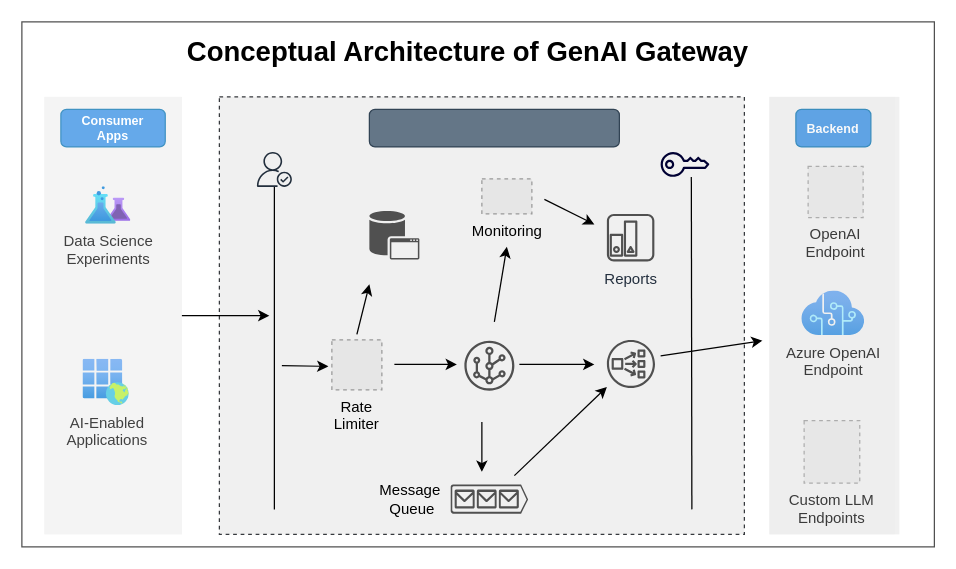
The diagram is 956 pixels wide and 569 high, and some of its shapes have lost their labels. Grey dashed boxes stand in for pictures. Here are the shapes that lost their labels. From the top down, the centre of each, then its label:
At (x=493, y=127): "Gen AI Gateway Solution".
At (x=273, y=168): "Authenticates Consumer".
At (x=684, y=163): "Backend Auth".
At (x=394, y=234): "Store".
At (x=489, y=365): "Router".
At (x=630, y=363): "Load Balancer".
